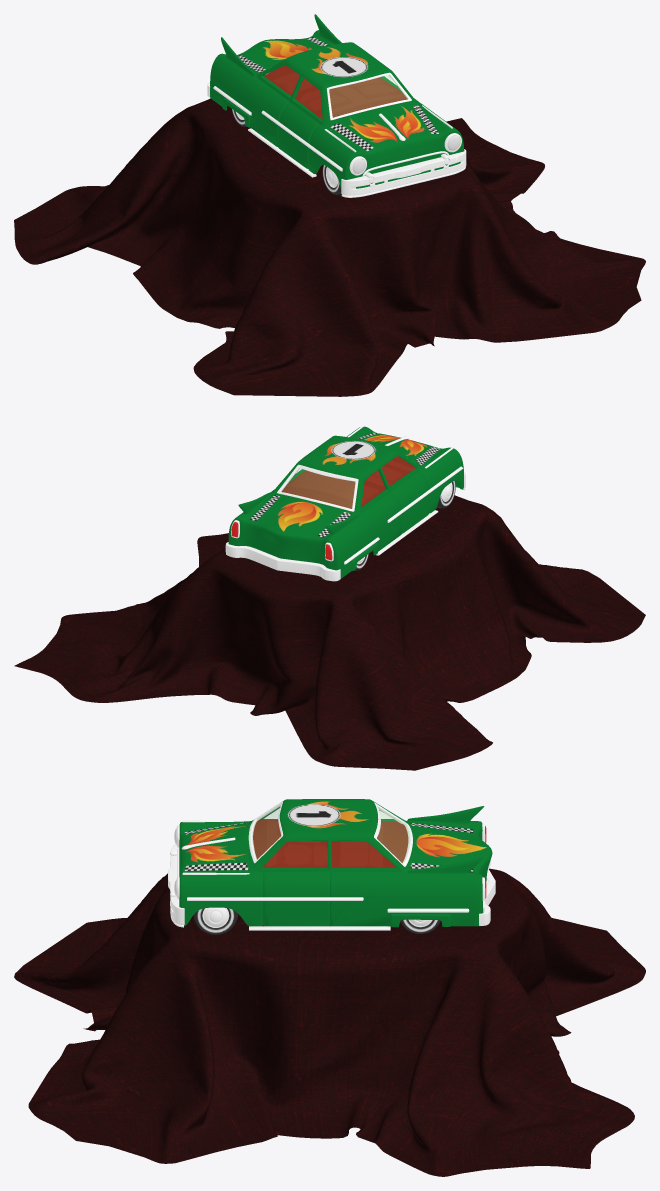
Rendered from ToyCar.gltf.
3 renders of one model, top to bottom at view 1: azimuth 30°, elevation 25°; view 2: azimuth 150°, elevation 25°; view 3: azimuth 270°, elevation 25°, orthographic. The views are drawn at different scales.
Parts seen in each view (by area): view 1: Fabric, ToyCar, Glass; view 2: Fabric, ToyCar, Glass; view 3: Fabric, ToyCar, Glass.
Boxes of the visible parts, box(x1,y1,x2,y2) form: Fabric: box(14, 98, 645, 396); ToyCar: box(207, 14, 466, 197); Glass: box(329, 75, 407, 116); Fabric: box(14, 495, 645, 770); ToyCar: box(225, 425, 465, 581); Glass: box(282, 468, 354, 508); Fabric: box(14, 868, 645, 1176); ToyCar: box(168, 799, 495, 934); Glass: box(252, 805, 409, 862).
Bounding box in the file's own units: 0.0734 × 0.0288 × 0.074.
3 materials, 2 textured.
